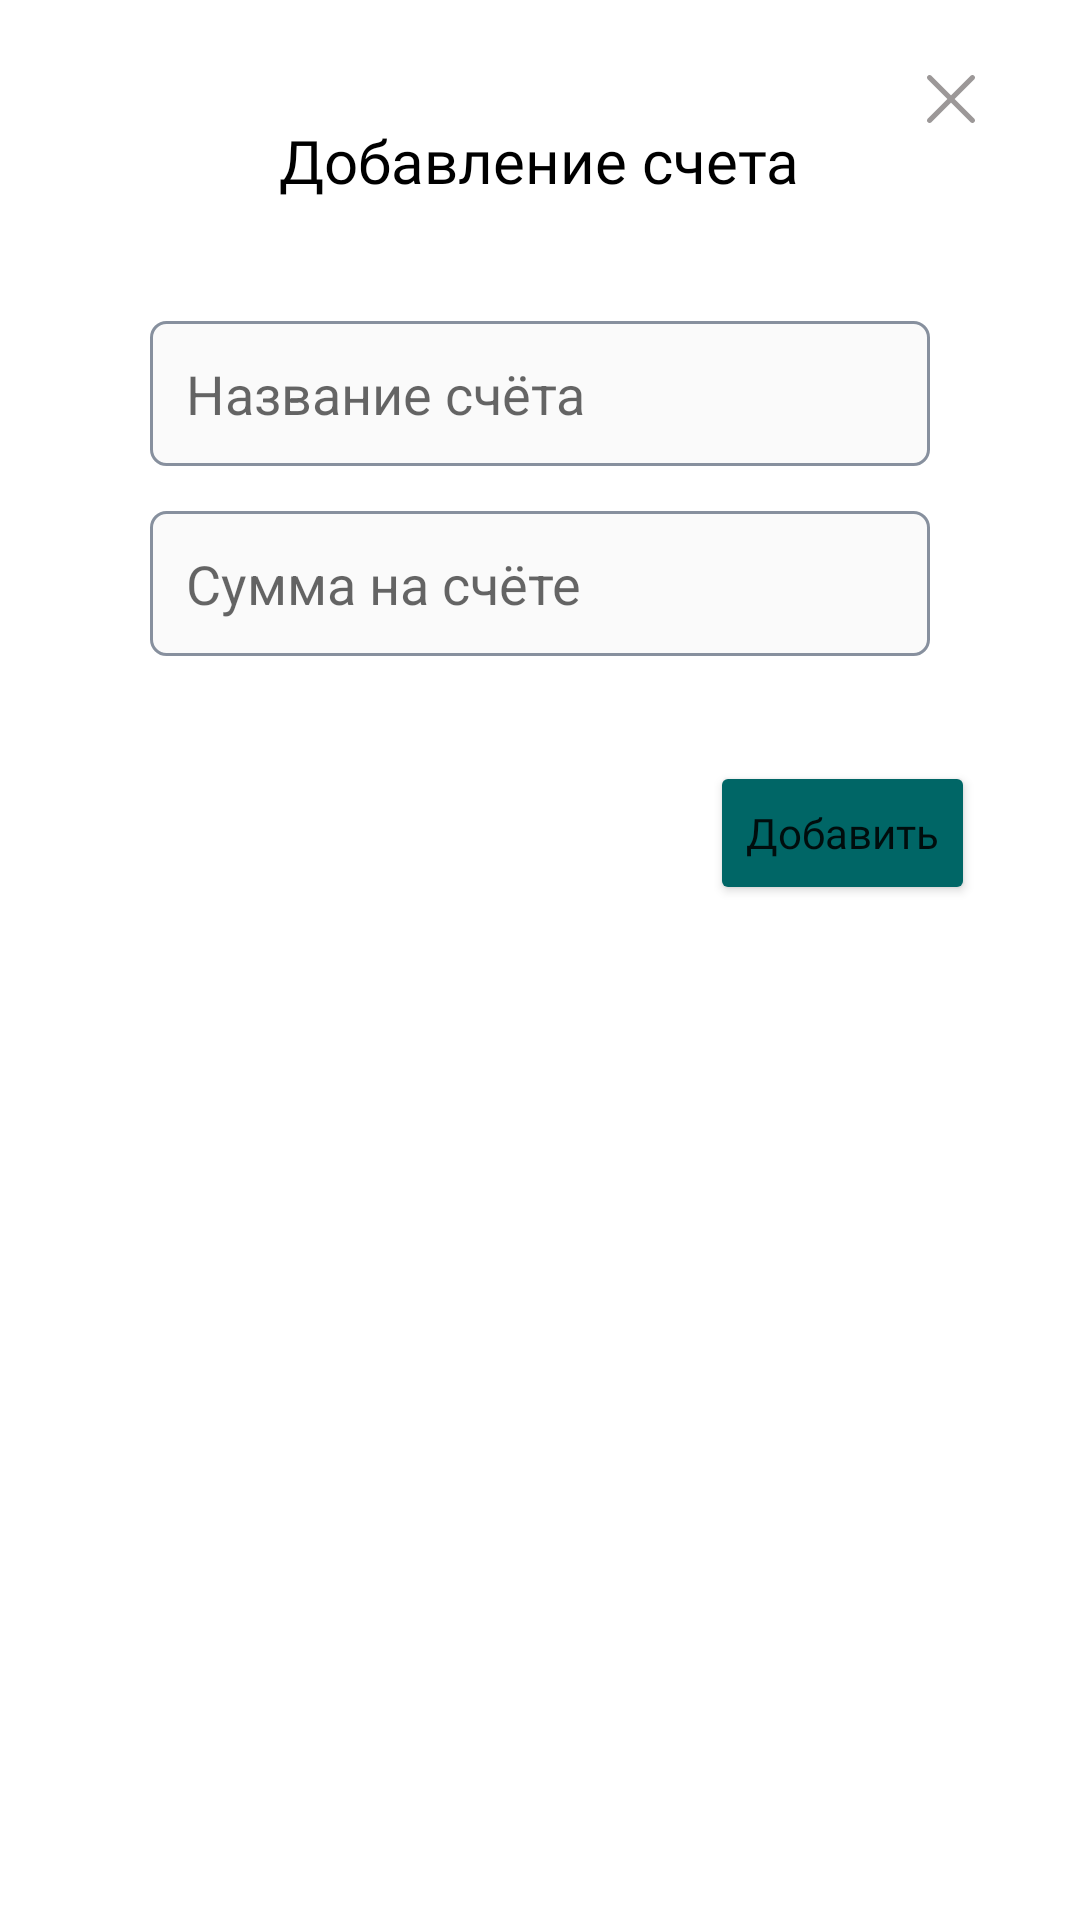

Where icons sit on this 1080×1920 app screen, as rect(x1, y1, x2, y2):
close: rect(927, 75, 975, 123)
